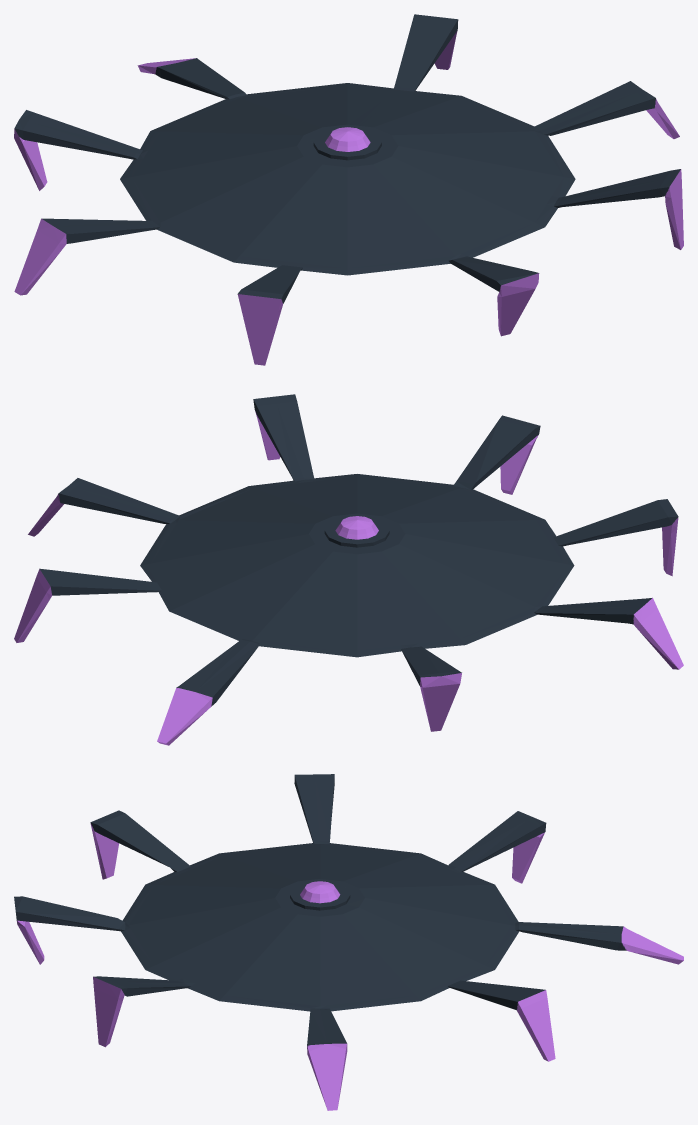
The model's file is Spider_Walk_000013.obj.
3 renders of one model, top to bottom at view 1: azimuth 30°, elevation 25°; view 2: azimuth 150°, elevation 25°; view 3: azimuth 270°, elevation 25°, orthographic. The views are drawn at different scales.
Visible parts, largest first — view 1: Circle_Circle.001; view 2: Circle_Circle.001; view 3: Circle_Circle.001.
Boxes of the visible parts, left/top/right/bottom form: Circle_Circle.001: left=14, top=14, right=683, bottom=365; Circle_Circle.001: left=14, top=394, right=683, bottom=745; Circle_Circle.001: left=14, top=774, right=683, bottom=1110.
Size of the model in its own units: 3.41 by 0.4564 by 3.32.
